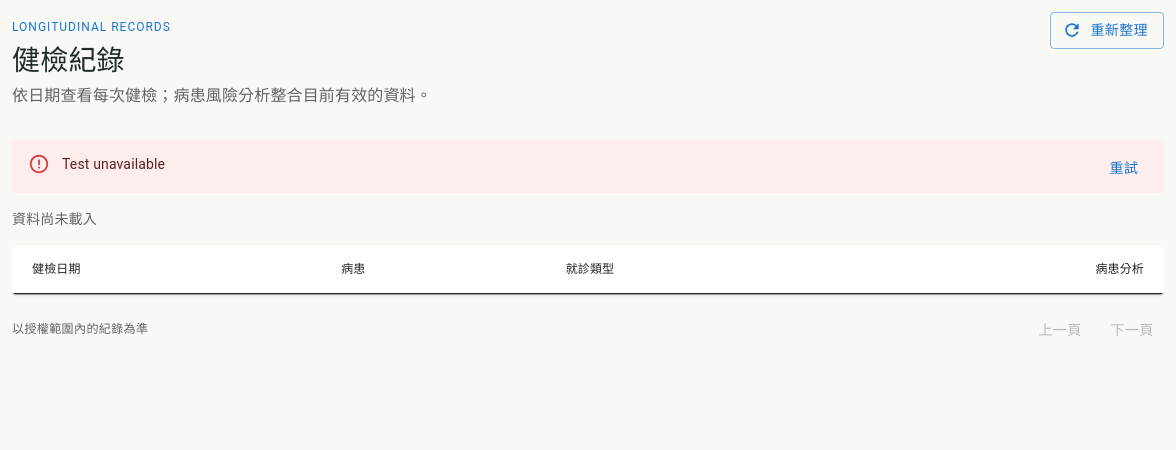
Scenario: history failure does not masquerade as an empty dataset and can retry
Check: the message "Test unavailable 重試" is shown, box x1=12 y1=140 x2=1164 y2=193
Check: the text "尚無健檢紀錄" is not shown
Click the button "重試" at (1124, 169), box x1=1092 y1=150 x2=1156 y2=187
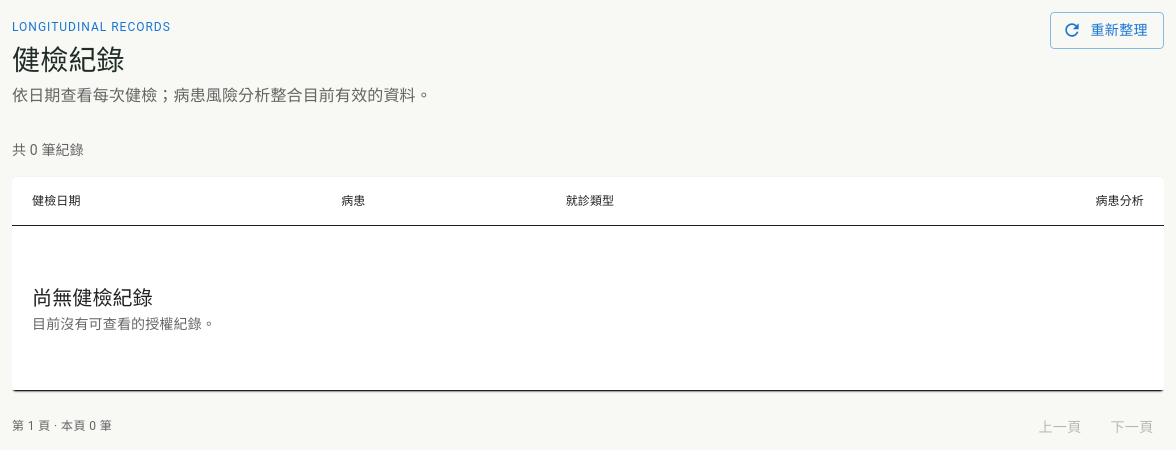
Check: the heading "尚無健檢紀錄" is shown, box x1=32 y1=286 x2=153 y2=310
